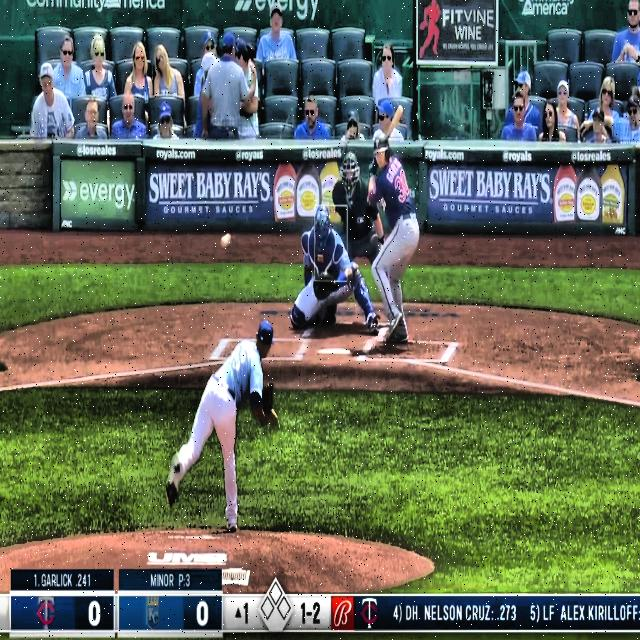baseball: (220, 232, 232, 250)
